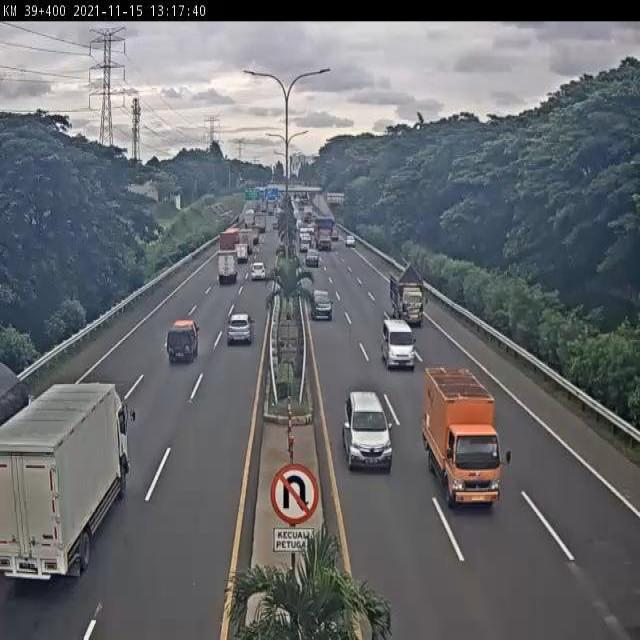ARABA: (344, 390, 395, 470), (382, 316, 416, 369), (226, 312, 254, 345), (310, 288, 333, 321)
KAMYONET: (425, 368, 509, 504), (390, 261, 425, 327), (166, 317, 201, 367)
TIR: (1, 379, 134, 585)
